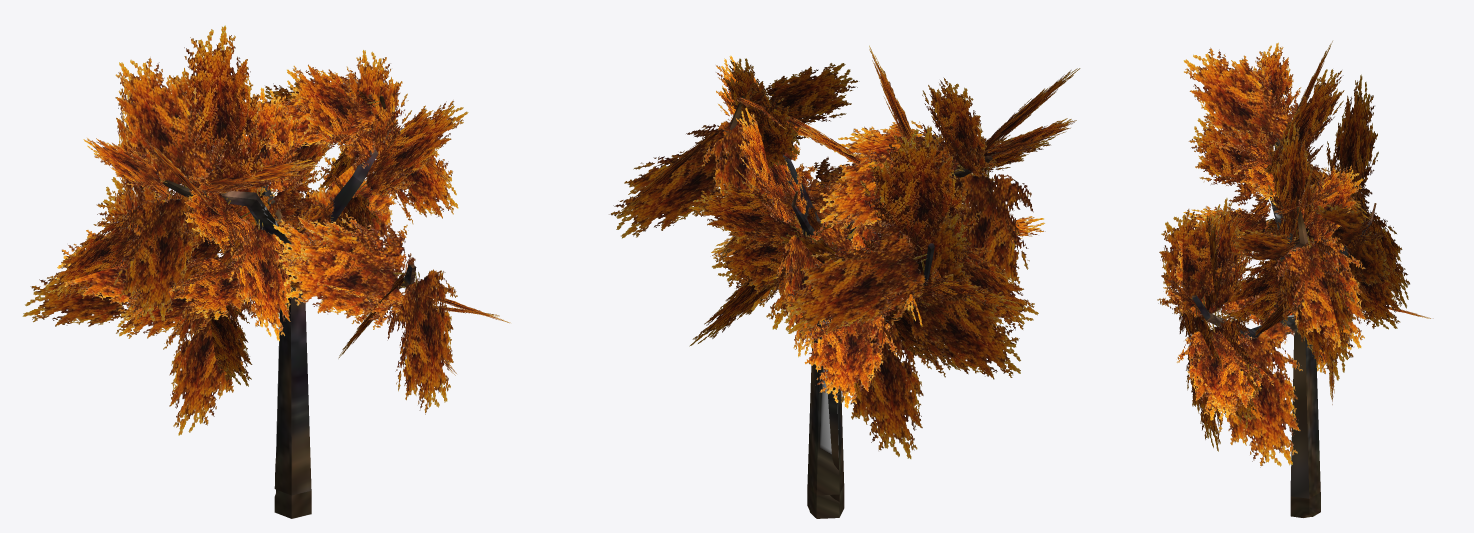
File: Tree2.fbx
3 views of the same model, side by side, from view 1: azimuth 30°, elevation 25°; view 2: azimuth 150°, elevation 25°; view 3: azimuth 270°, elevation 25° (orthographic). The views are drawn at different scales.
Parts seen in each view (by area): view 1: Cylinder.001, Cylinder.001|Plane|Dupli|10, Cylinder.001|Plane|Dupli|12, Cylinder.001|Plane|Dupli|67, Cylinder.001|Plane|Dupli|14, Cylinder.001|Plane|Dupli|68, Cylinder.001|Plane|Dupli|43, Cylinder.001|Plane|Dupli|5, Cylinder.001|Plane|Dupli|30, Cylinder.001|Plane|Dupli|21, Cylinder.001|Plane|Dupli|53, Cylinder.001|Plane|Dupli|32 (+23 smaller); view 2: Cylinder.001|Plane|Dupli|54, Cylinder.001|Plane|Dupli|55, Cylinder.001|Plane|Dupli|52, Cylinder.001, Cylinder.001|Plane|Dupli|31, Cylinder.001|Plane|Dupli|43, Cylinder.001|Plane|Dupli|14, Cylinder.001|Plane|Dupli|44, Cylinder.001|Plane|Dupli|38, Cylinder.001|Plane|Dupli|30, Cylinder.001|Plane|Dupli|12, Cylinder.001|Plane|Dupli|8 (+24 smaller); view 3: Cylinder.001|Plane|Dupli|9, Cylinder.001, Cylinder.001|Plane|Dupli|64, Cylinder.001|Plane|Dupli|29, Cylinder.001|Plane|Dupli|67, Cylinder.001|Plane|Dupli|62, Cylinder.001|Plane|Dupli|31, Cylinder.001|Plane|Dupli|55, Cylinder.001|Plane|Dupli|30, Cylinder.001|Plane|Dupli|7, Cylinder.001|Plane|Dupli|10, Cylinder.001|Plane|Dupli|24 (+18 smaller).
Boxes of the visible parts, left/top/right/bottom form: Cylinder.001: left=163, top=95, right=416, bottom=518; Cylinder.001|Plane|Dupli|10: left=168, top=25, right=275, bottom=185; Cylinder.001|Plane|Dupli|12: left=115, top=57, right=223, bottom=190; Cylinder.001|Plane|Dupli|67: left=280, top=222, right=404, bottom=329; Cylinder.001|Plane|Dupli|14: left=114, top=189, right=200, bottom=321; Cylinder.001|Plane|Dupli|68: left=387, top=269, right=457, bottom=414; Cylinder.001|Plane|Dupli|43: left=163, top=297, right=256, bottom=435; Cylinder.001|Plane|Dupli|5: left=228, top=218, right=293, bottom=341; Cylinder.001|Plane|Dupli|30: left=287, top=64, right=375, bottom=168; Cylinder.001|Plane|Dupli|21: left=355, top=100, right=468, bottom=196; Cylinder.001|Plane|Dupli|53: left=45, top=215, right=139, bottom=300; Cylinder.001|Plane|Dupli|32: left=337, top=50, right=408, bottom=158; Cylinder.001|Plane|Dupli|54: left=780, top=221, right=927, bottom=336; Cylinder.001|Plane|Dupli|55: left=859, top=126, right=980, bottom=272; Cylinder.001|Plane|Dupli|52: left=904, top=285, right=1020, bottom=379; Cylinder.001: left=729, top=95, right=992, bottom=518; Cylinder.001|Plane|Dupli|31: left=609, top=124, right=731, bottom=238; Cylinder.001|Plane|Dupli|43: left=838, top=319, right=931, bottom=458; Cylinder.001|Plane|Dupli|14: left=956, top=166, right=1033, bottom=283; Cylinder.001|Plane|Dupli|44: left=800, top=313, right=897, bottom=408; Cylinder.001|Plane|Dupli|38: left=688, top=180, right=800, bottom=249; Cylinder.001|Plane|Dupli|30: left=739, top=63, right=859, bottom=142; Cylinder.001|Plane|Dupli|12: left=922, top=77, right=996, bottom=177; Cylinder.001|Plane|Dupli|8: left=818, top=135, right=922, bottom=229; Cylinder.001|Plane|Dupli|9: left=1183, top=47, right=1297, bottom=158; Cylinder.001: left=1191, top=132, right=1376, bottom=517; Cylinder.001|Plane|Dupli|64: left=1215, top=332, right=1302, bottom=467; Cylinder.001|Plane|Dupli|29: left=1274, top=237, right=1366, bottom=351; Cylinder.001|Plane|Dupli|67: left=1157, top=209, right=1234, bottom=314; Cylinder.001|Plane|Dupli|62: left=1176, top=324, right=1257, bottom=420; Cylinder.001|Plane|Dupli|31: left=1279, top=237, right=1355, bottom=380; Cylinder.001|Plane|Dupli|55: left=1326, top=74, right=1378, bottom=222; Cylinder.001|Plane|Dupli|30: left=1268, top=123, right=1318, bottom=238; Cylinder.001|Plane|Dupli|7: left=1188, top=118, right=1274, bottom=205; Cylinder.001|Plane|Dupli|10: left=1264, top=69, right=1344, bottom=174; Cylinder.001|Plane|Dupli|24: left=1217, top=259, right=1286, bottom=325.
Size of the model in its own units: 8375 by 8795 by 6013.
